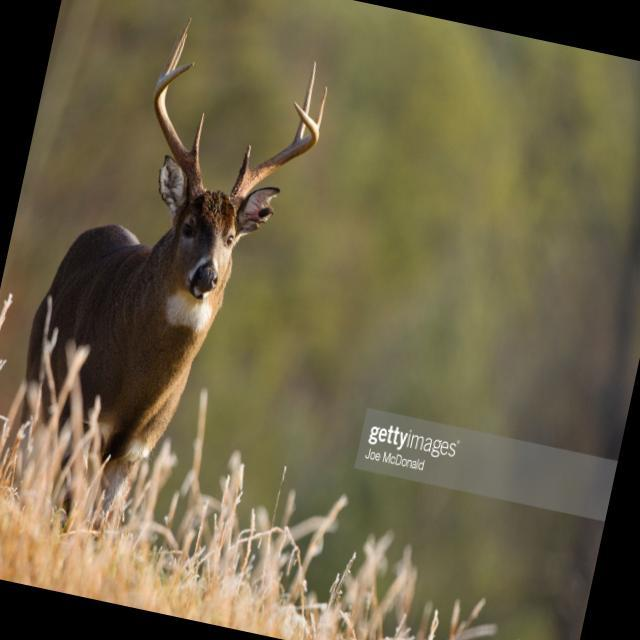L-F: (227, 101, 319, 217)
L-G1: (238, 144, 251, 176)
R-F: (152, 62, 207, 205)
R-G1: (189, 112, 204, 161)
R-G3: (155, 17, 191, 87)
